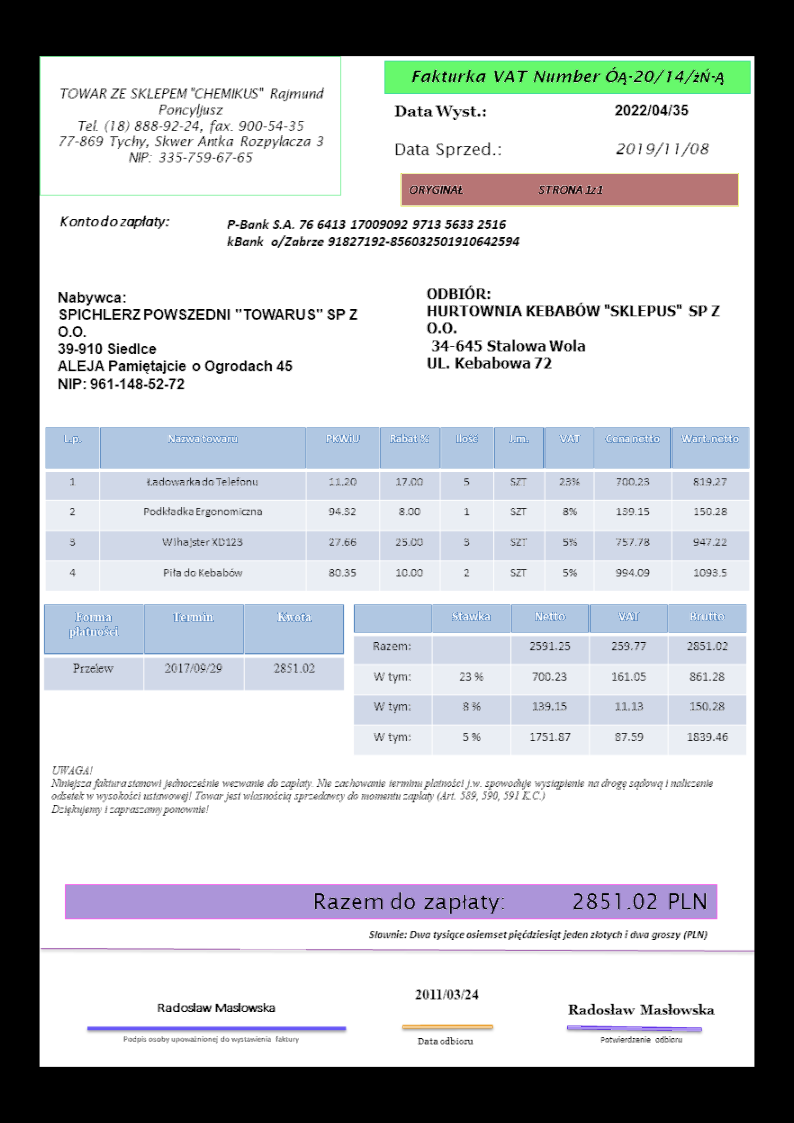Table: (43, 423, 750, 591), (350, 601, 747, 755), (43, 603, 344, 691)
TextBox: (51, 760, 718, 818), (54, 287, 362, 394), (422, 283, 725, 373), (53, 80, 329, 168), (311, 888, 709, 917), (222, 215, 525, 251), (406, 65, 728, 89), (366, 925, 711, 944), (404, 180, 608, 200), (564, 1000, 716, 1020), (121, 1030, 303, 1046), (55, 209, 172, 233), (391, 139, 505, 161), (612, 138, 713, 160), (391, 101, 491, 123), (153, 998, 279, 1015), (611, 99, 690, 119), (410, 985, 482, 1004), (599, 1033, 686, 1047), (414, 1033, 476, 1049)
